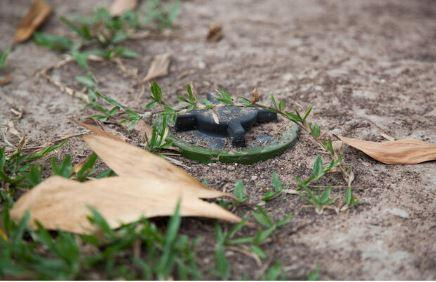pmn: (161, 91, 301, 167)
